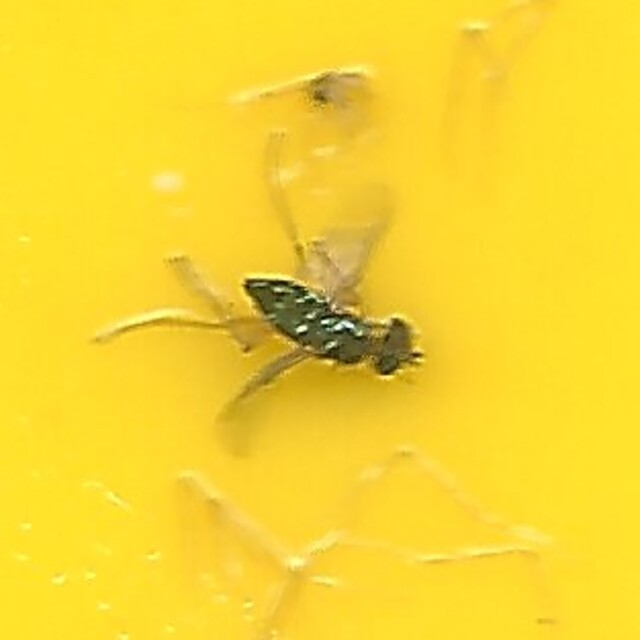Brachycera: (204, 198, 436, 442)
